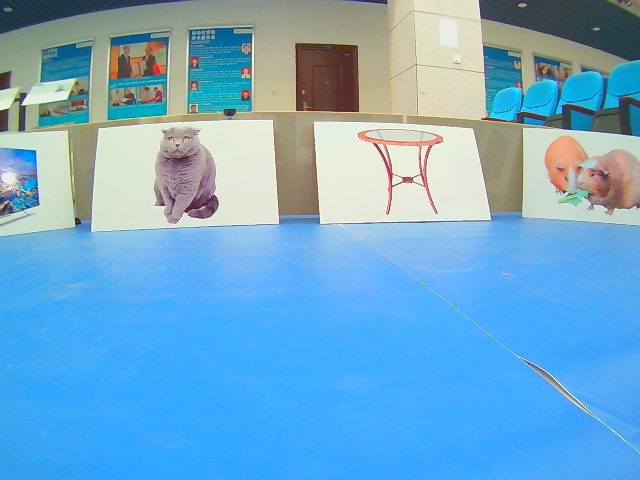pet: (90, 119, 279, 233), (522, 128, 640, 226)
table: (313, 120, 492, 225)
